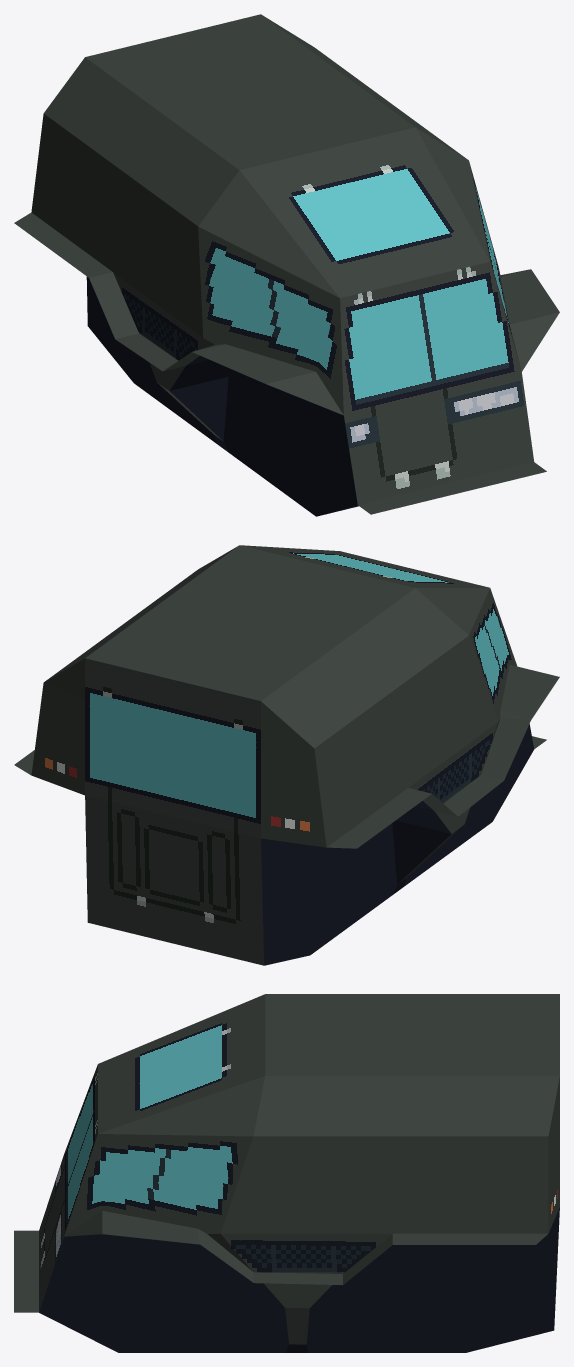
File: sherp.glb
3 views of the same model, one above another, from view 1: azimuth 30°, elevation 25°; view 2: azimuth 150°, elevation 25°; view 3: azimuth 270°, elevation 25° (orthographic). The views are drawn at different scales.
Visible parts, largest first — view 1: Body; view 2: Body; view 3: Body.
Boxes of the visible parts, box(x1,y1,x2,y2) form: Body: box(14, 14, 559, 516); Body: box(14, 545, 559, 965); Body: box(14, 994, 559, 1352).
Bounding box in the file's own units: 2.31 × 1.87 × 3.34.
Materials: 1 (1 with a texture image).
